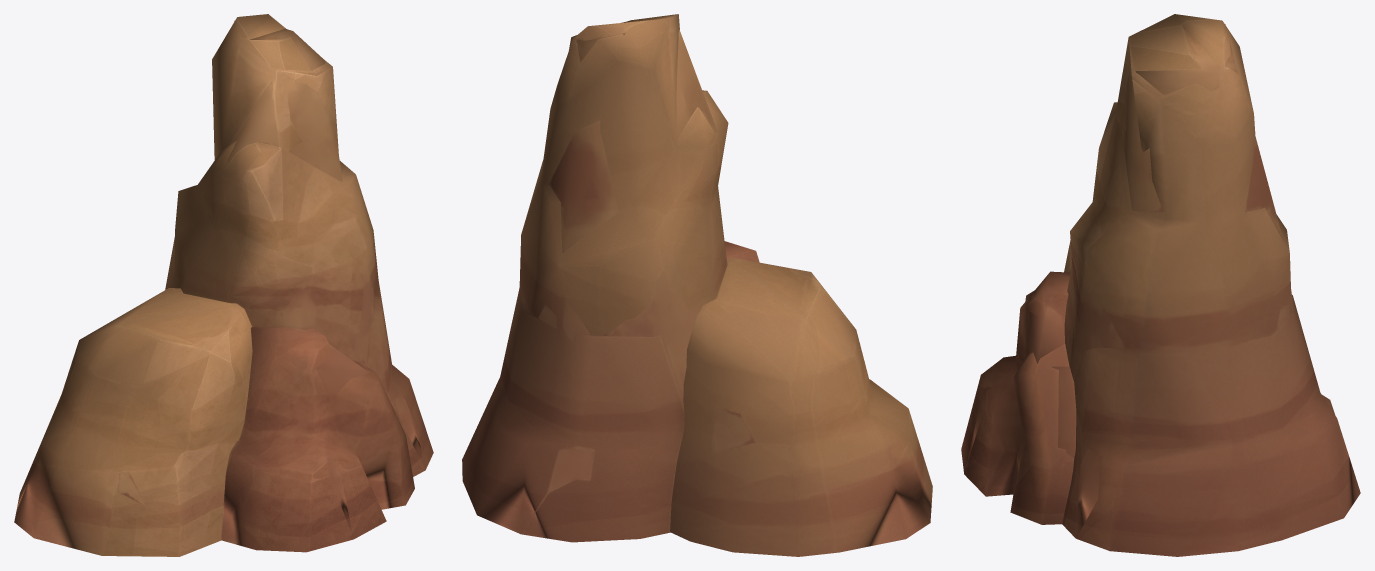
The model's file is Finished Mound.glb.
3 views of the same model, side by side, from view 1: azimuth 30°, elevation 25°; view 2: azimuth 150°, elevation 25°; view 3: azimuth 270°, elevation 25° (orthographic). The views are drawn at different scales.
Bounding box in the file's own units: 1.93 × 2 × 1.59.
Materials: 1 (1 with a texture image).
